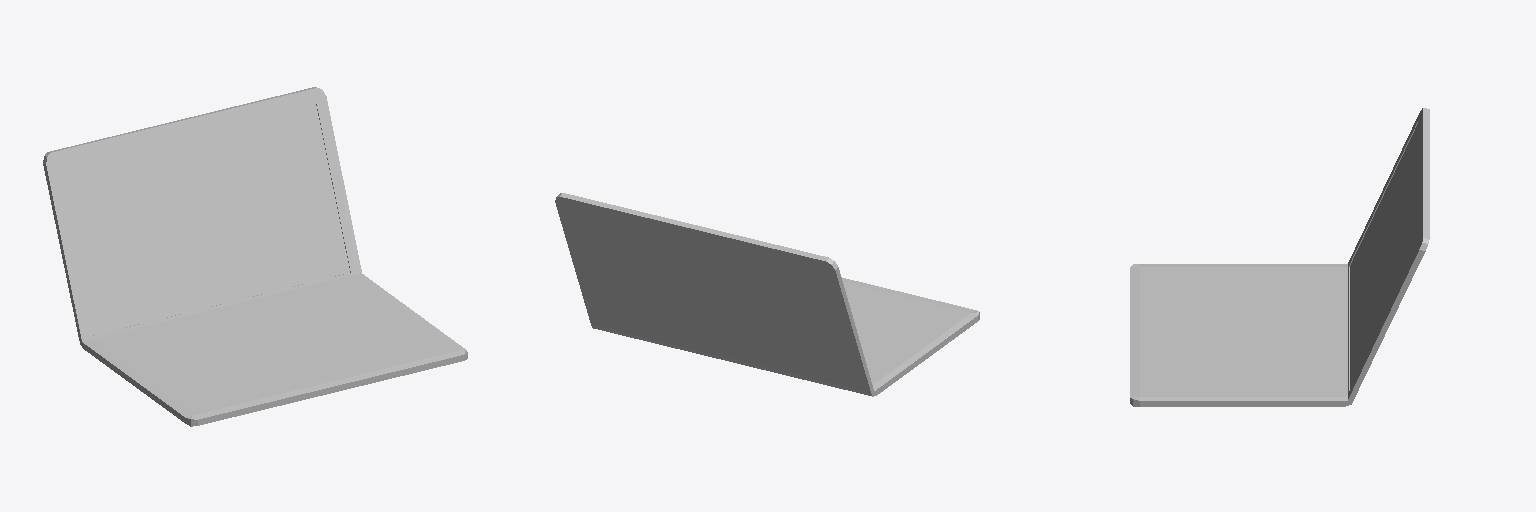
File: LaptopObj.obj
The picture shows the model from 3 angles: view 1: azimuth 30°, elevation 25°; view 2: azimuth 150°, elevation 25°; view 3: azimuth 270°, elevation 25°; orthographic projection.
Parts seen in each view (by area): view 1: pCube1; view 2: pCube1; view 3: pCube1.
Part boxes in pixels (x1,y1,x2,y2): pCube1: (43, 87, 467, 426); pCube1: (555, 193, 979, 396); pCube1: (1130, 108, 1429, 406).
Bounding box in the file's own units: 4.51 × 2.57 × 4.18.